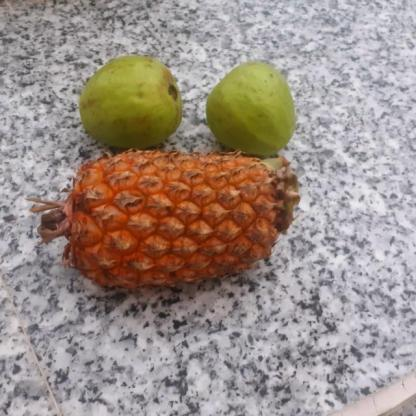guava: (80, 56, 185, 146), (206, 62, 302, 156)
pineapple: (52, 146, 296, 290)
